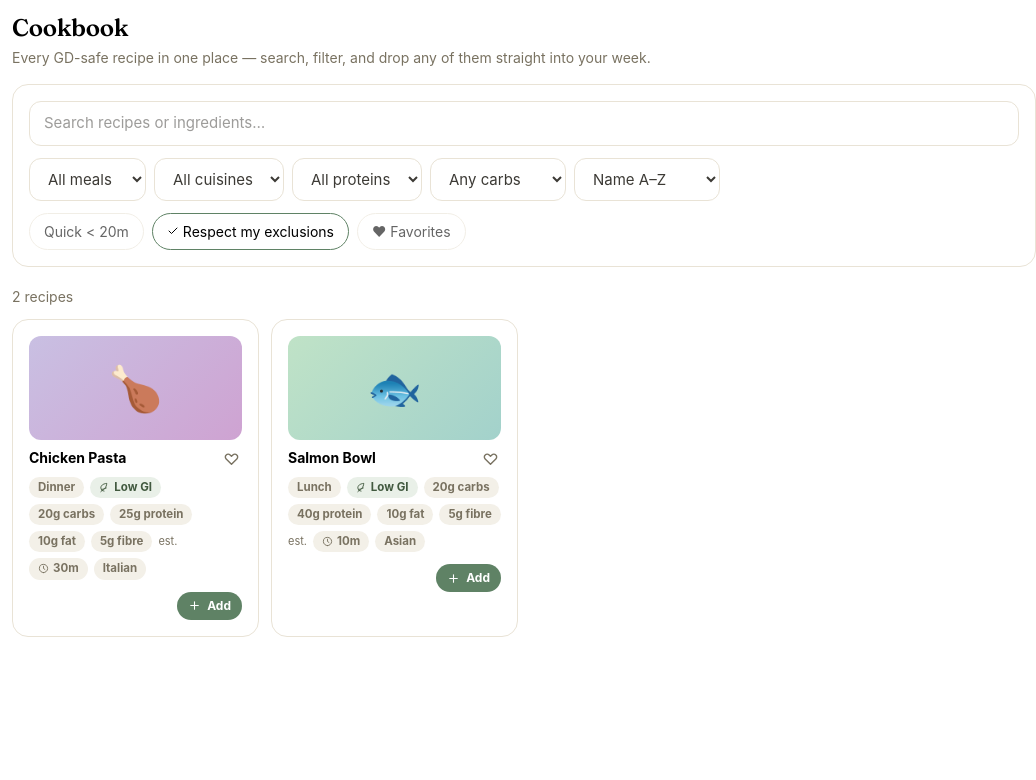
CookbookTab › hides excluded recipes while 'respect exclusions' is on
Expected: the text "Tofu Stir Fry" is not shown
Click the button "Respect my exclusions".
click(250, 231)  # box left=152, top=212, right=349, bottom=250
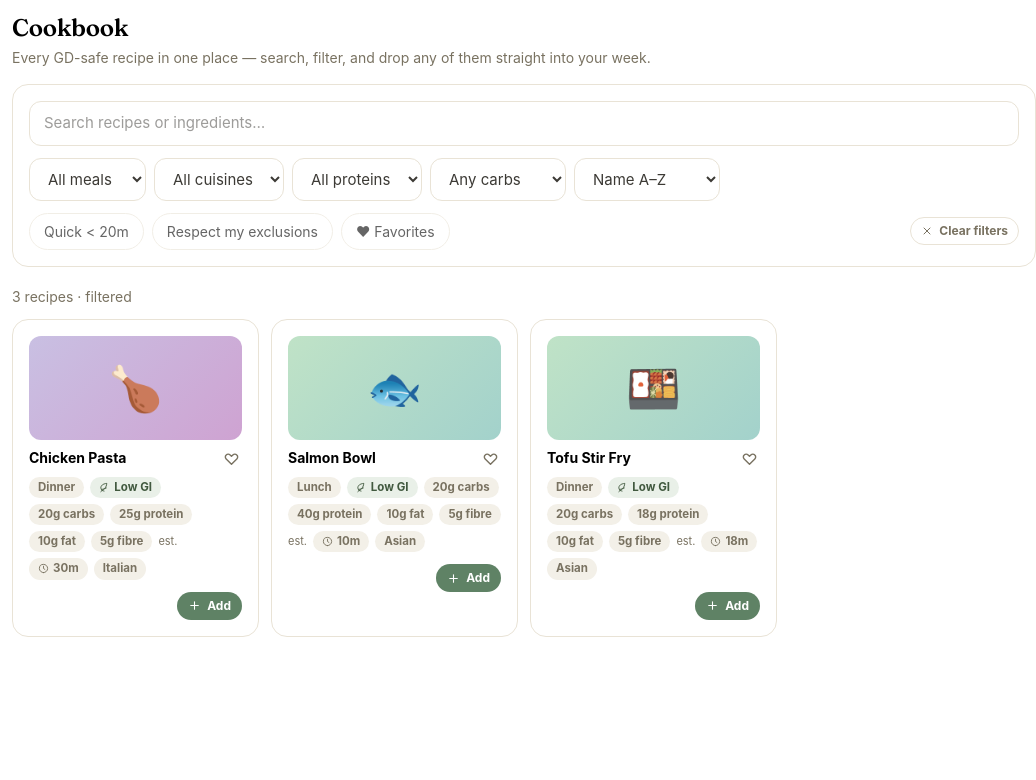
Expected: the text "Tofu Stir Fry" is shown, left=547, top=448, right=631, bottom=467
